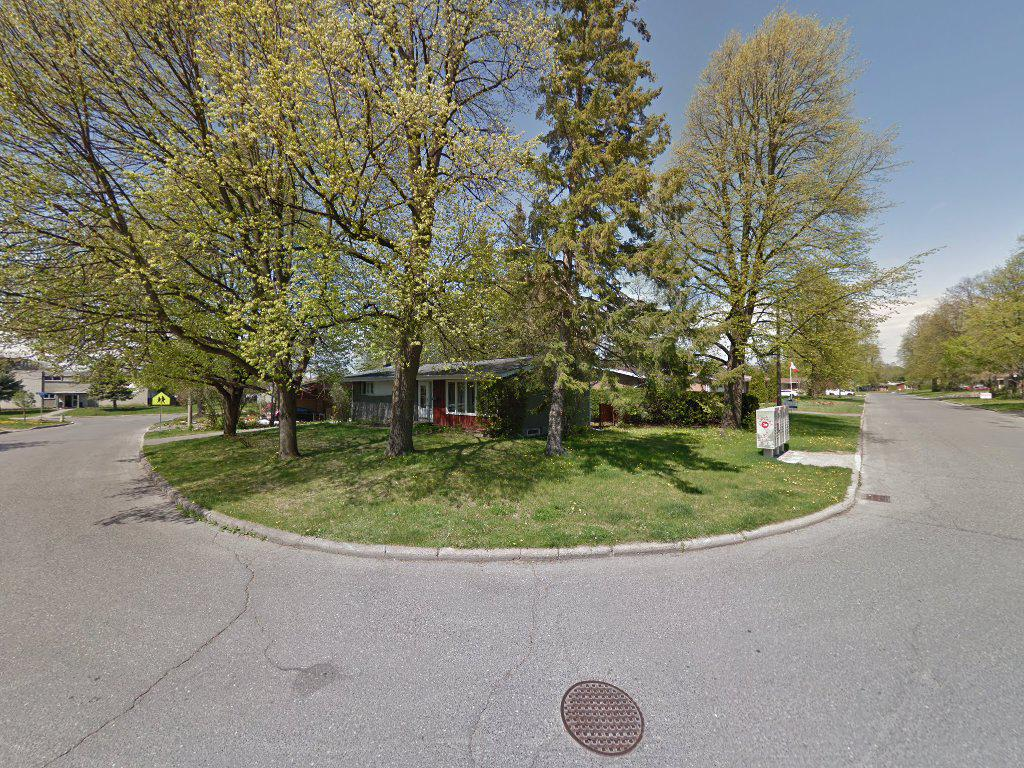trunk: (390, 314, 423, 464), (272, 369, 304, 468), (545, 365, 569, 460)
